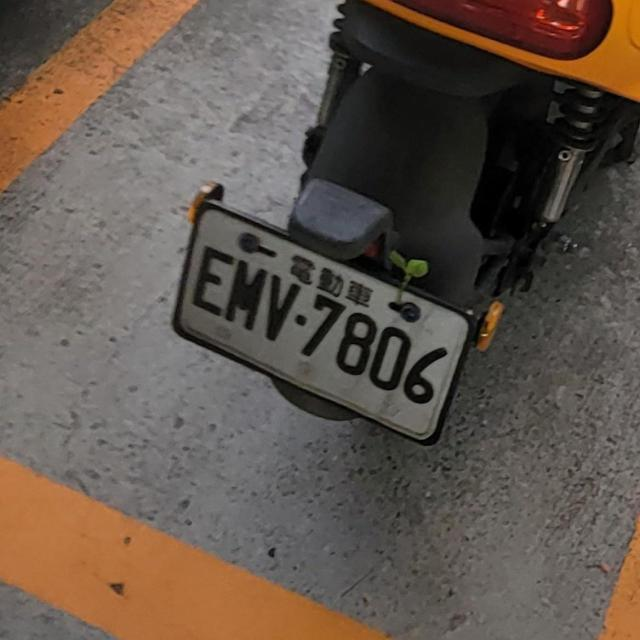W: (158, 204, 486, 445)
